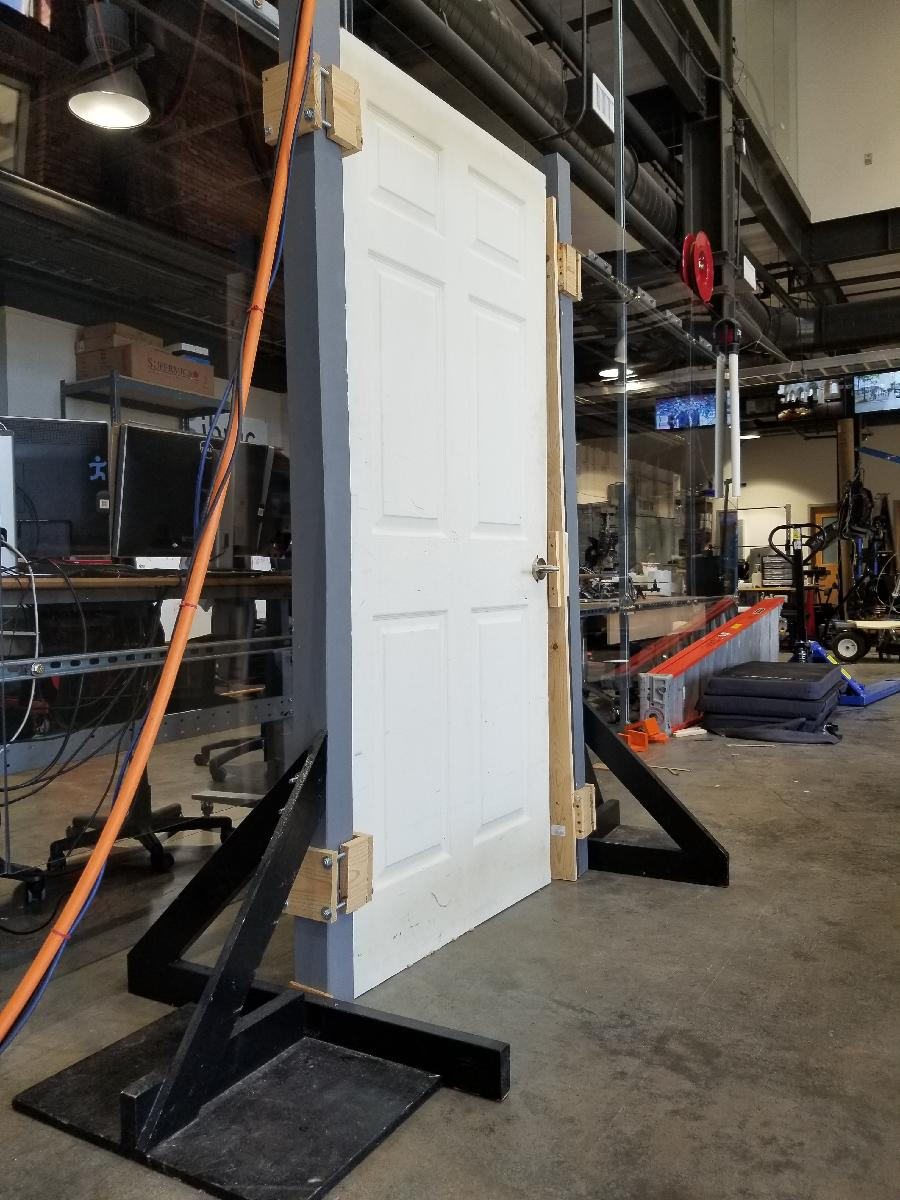door: (334, 24, 561, 1002)
doorHandle: (521, 554, 567, 596)
